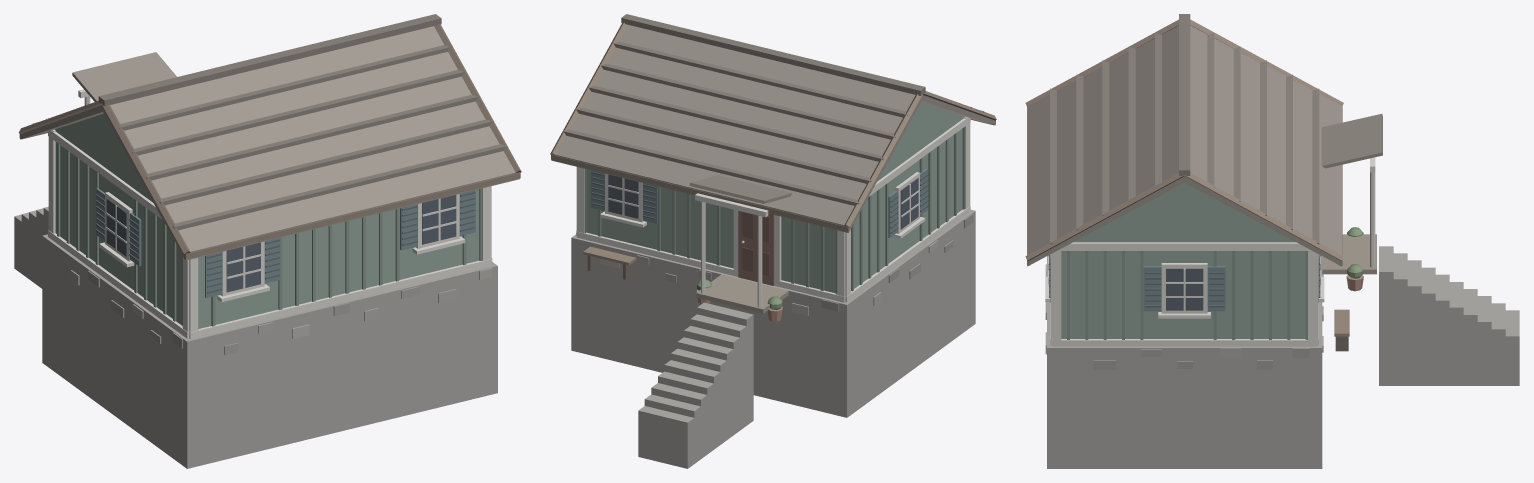
File: house_1_1.gltf
3 views of the same model, side by side, from view 1: azimuth 30°, elevation 25°; view 2: azimuth 150°, elevation 25°; view 3: azimuth 270°, elevation 25° (orthographic). The views are drawn at different scales.
Visible parts, largest first — view 1: Body; view 2: Body; view 3: Body.
Part boxes in pixels (x1=…): Body: x1=14, y1=14, x2=521, y2=468; Body: x1=550, y1=14, x2=996, y2=468; Body: x1=1025, y1=14, x2=1519, y2=468.
Bounding box in the file's own units: 8.47 × 7.69 × 11.3.
